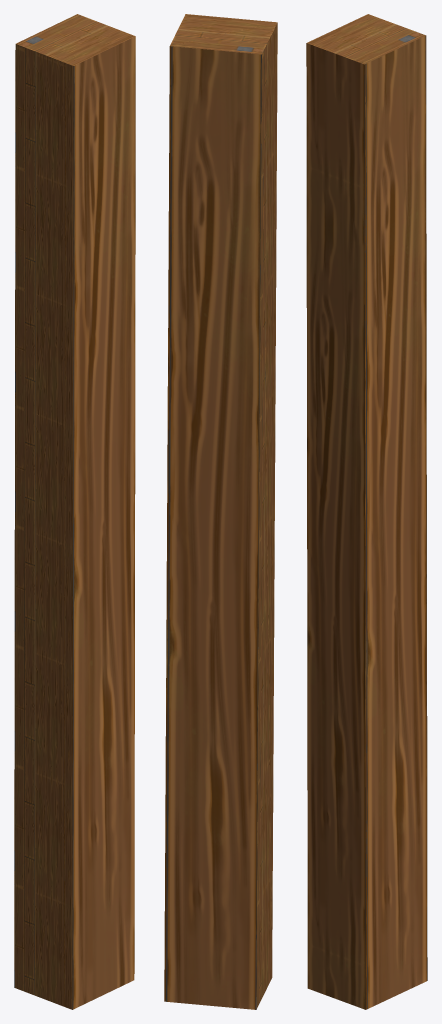
3 renders of one model, left to right at view 1: azimuth 90°, elevation 25°; view 2: azimuth 210°, elevation 25°; view 3: azimuth 270°, elevation 25°, orthographic.
Visible parts, largest first — view 1: Cube.1888; view 2: Cube.1888; view 3: Cube.1888.
Boxes of the visible parts, left/top/right/bottom form: Cube.1888: left=14, top=14, right=135, bottom=1009; Cube.1888: left=164, top=14, right=277, bottom=1009; Cube.1888: left=306, top=14, right=427, bottom=1009.
Bounding box in the file's own units: 75.59 × 615 × 71.48.
1 material, 1 textured.
